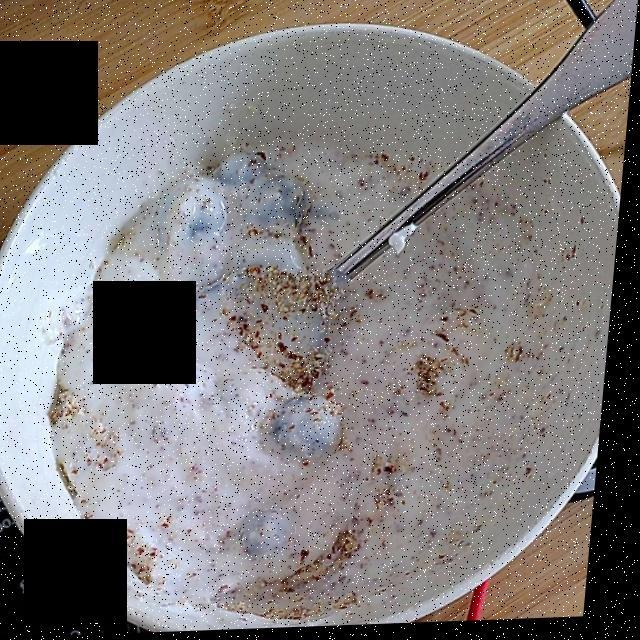blueberries: (175, 143, 350, 579)
